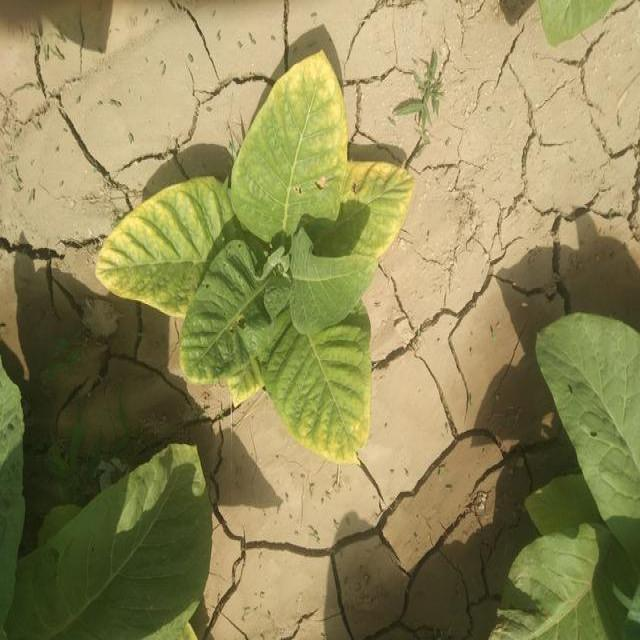crop: (110, 74, 412, 459), (2, 379, 212, 640), (498, 332, 640, 640)
